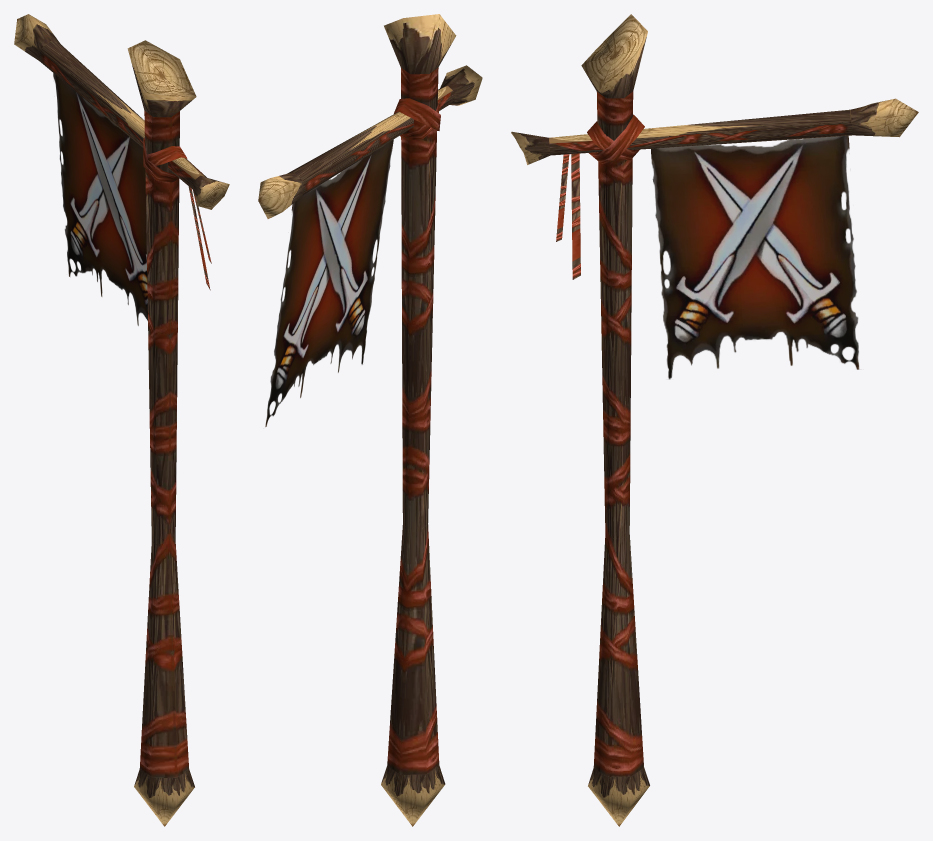
3 views of the same model, side by side, from view 1: azimuth 30°, elevation 25°; view 2: azimuth 150°, elevation 25°; view 3: azimuth 270°, elevation 25° (orthographic). The views are drawn at different scales.
Bounding box in the file's own units: 0.4224 × 5.81 × 2.7.
Materials: 2 (2 with a texture image).
